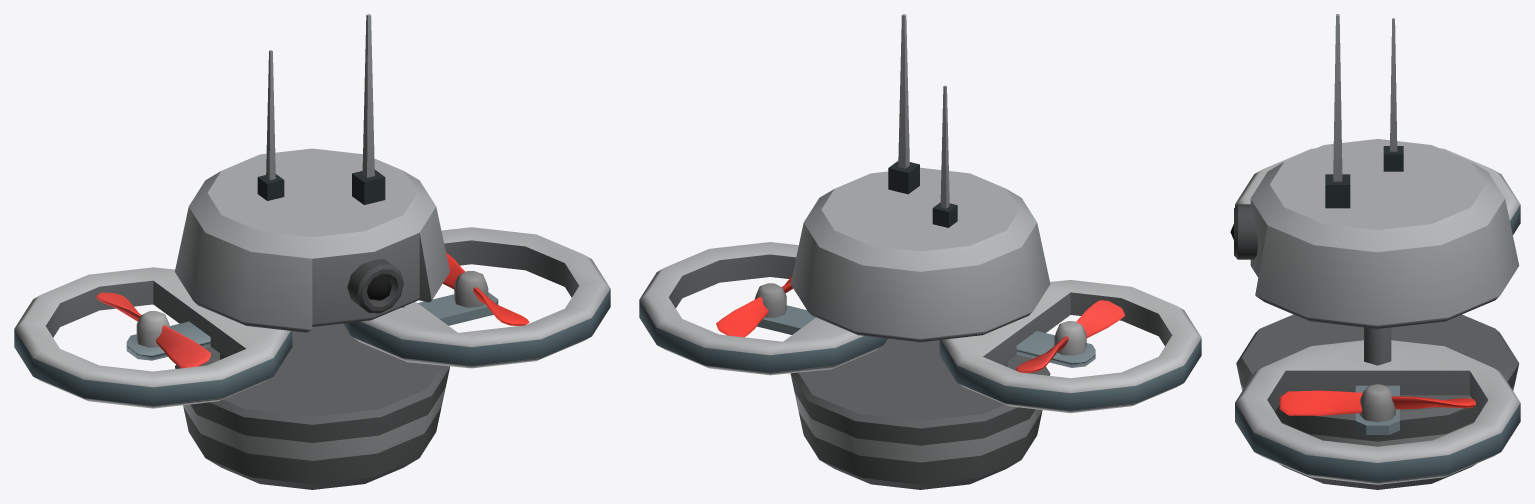
File: Drone_013.glb
3 renders of one model, left to right at view 1: azimuth 30°, elevation 25°; view 2: azimuth 150°, elevation 25°; view 3: azimuth 270°, elevation 25°, orthographic. The views are drawn at different scales.
Visible parts, largest first — view 1: Drone_013, Drone_013_propeller_002, Drone_013_propeller_001; view 2: Drone_013, Drone_013_propeller_002, Drone_013_propeller_001; view 3: Drone_013, Drone_013_propeller_001.
Boxes of the visible parts, x1,y1,x2,y2 form: Drone_013: (14, 14, 610, 489); Drone_013_propeller_002: (96, 292, 211, 368); Drone_013_propeller_001: (443, 252, 529, 325); Drone_013: (639, 14, 1201, 489); Drone_013_propeller_002: (1015, 300, 1125, 372); Drone_013_propeller_001: (716, 276, 792, 337); Drone_013: (1230, 14, 1520, 489); Drone_013_propeller_001: (1279, 384, 1475, 422).
Size of the model in its own units: 1.01 by 0.7529 by 0.4419.
2 materials, 1 textured.
